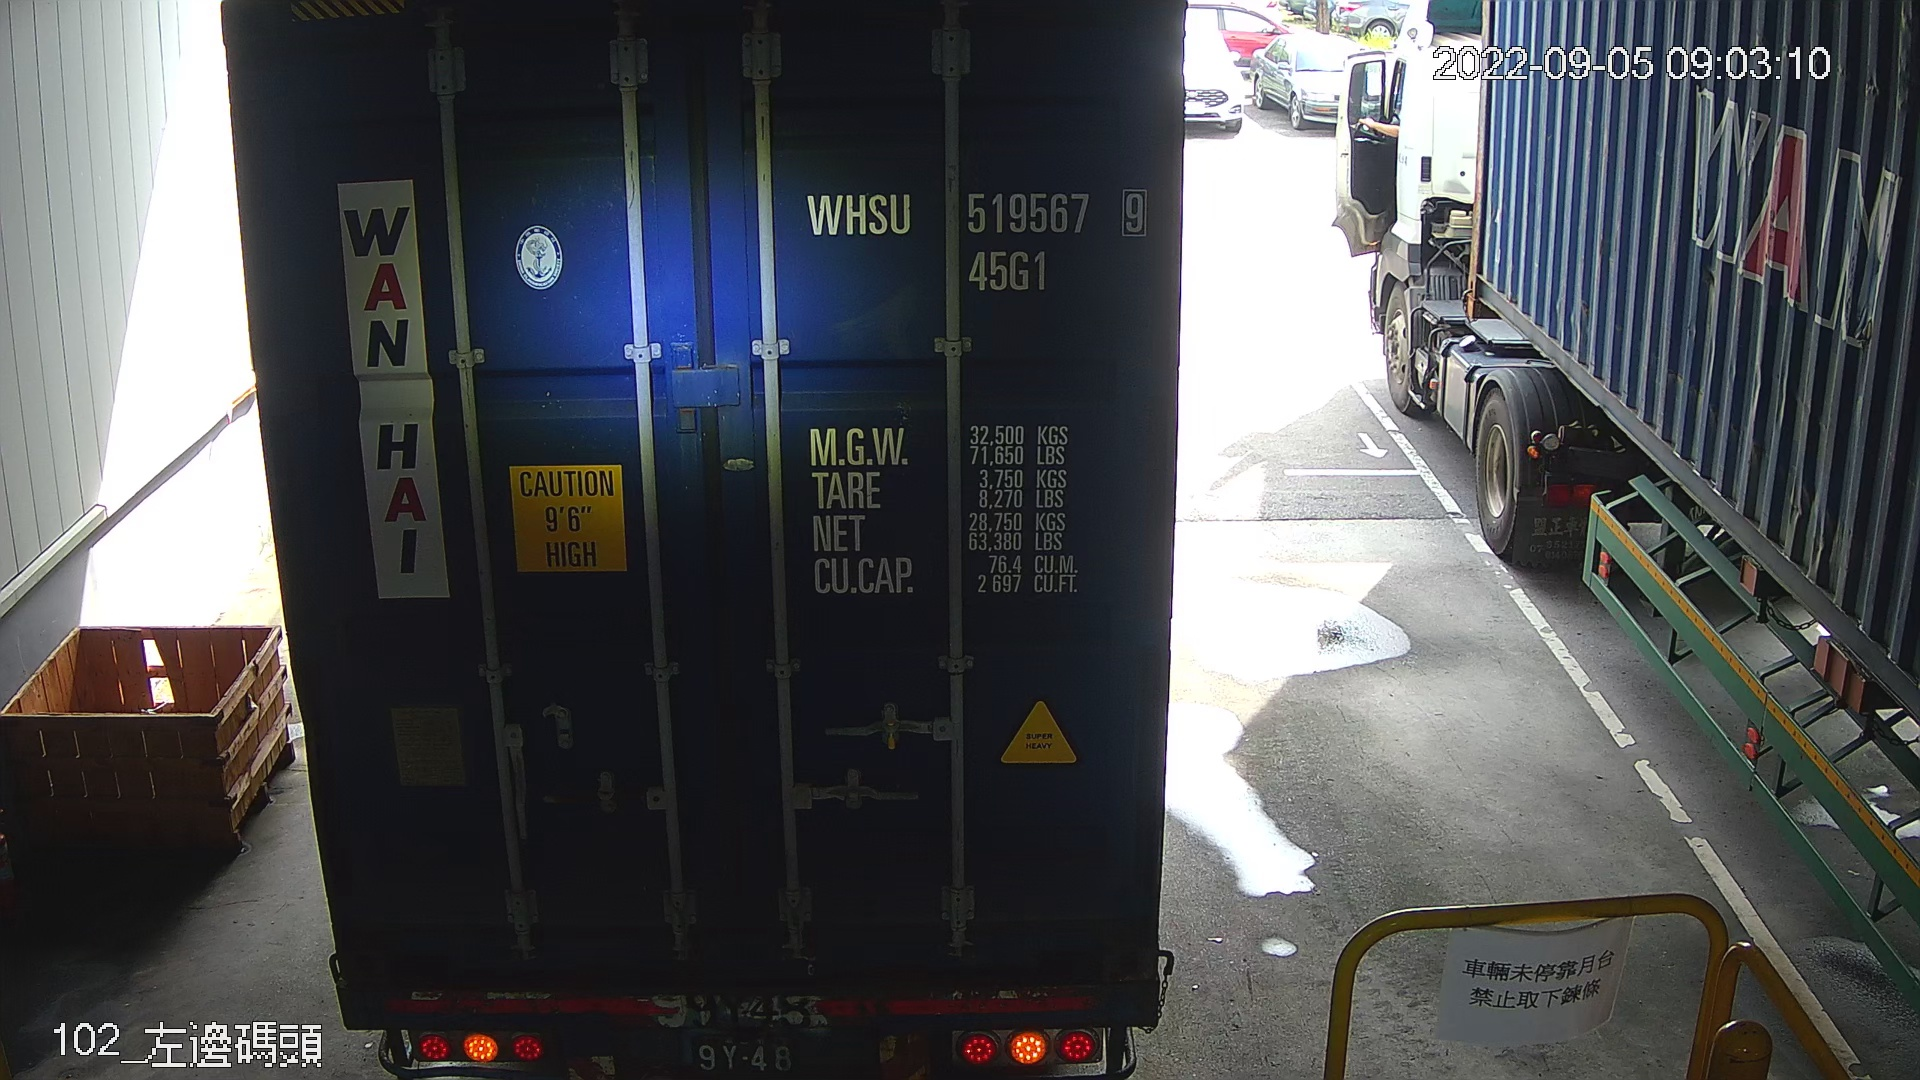container: (795, 171, 1159, 302)
